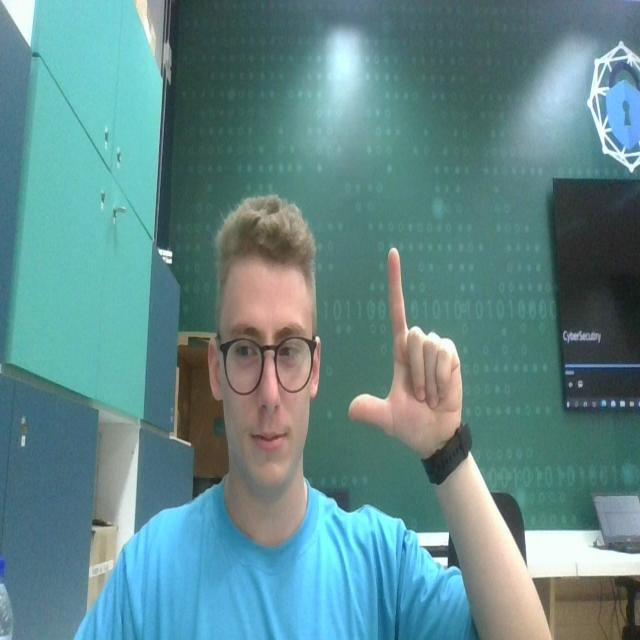L: (346, 247, 470, 460)
